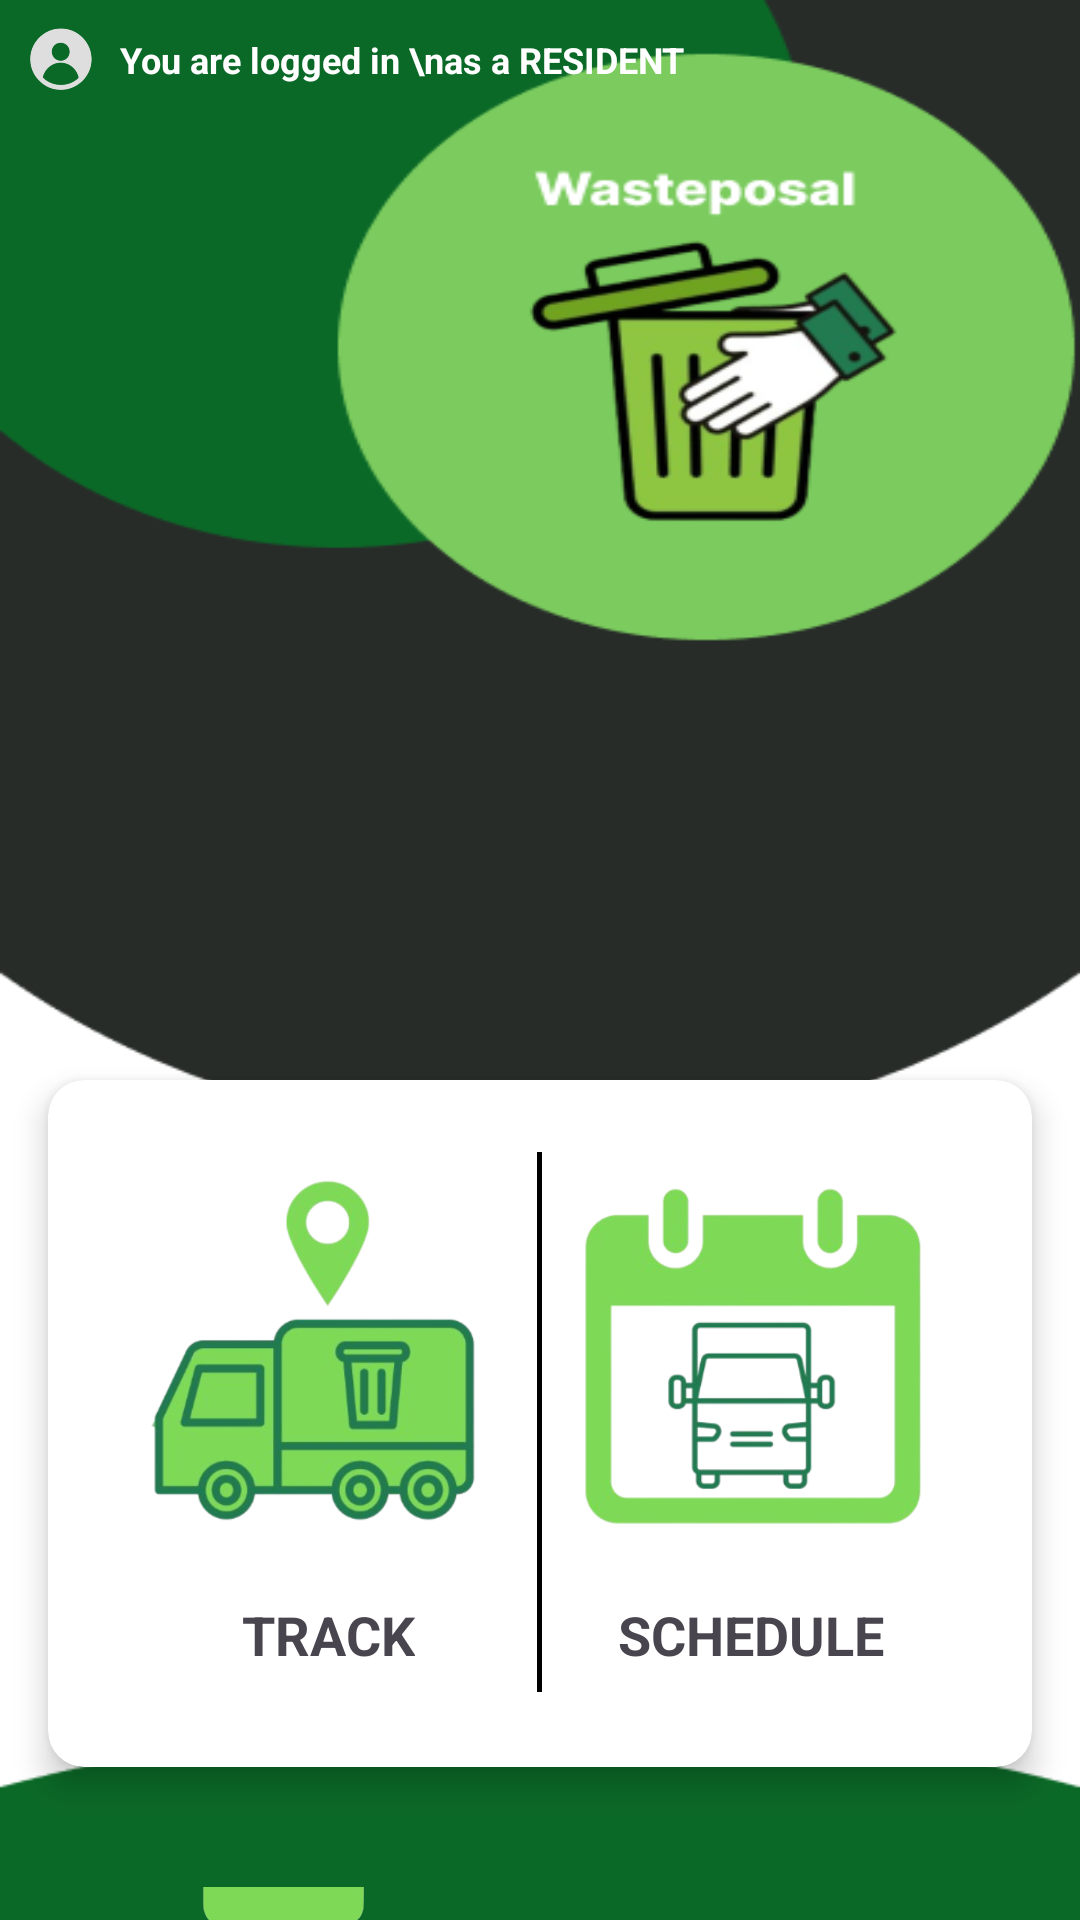

Icon bounding boxes for this 1080 x 1920 phone screenshot, format (x1, y1, x2, y2):
user: (30, 28, 92, 90)
